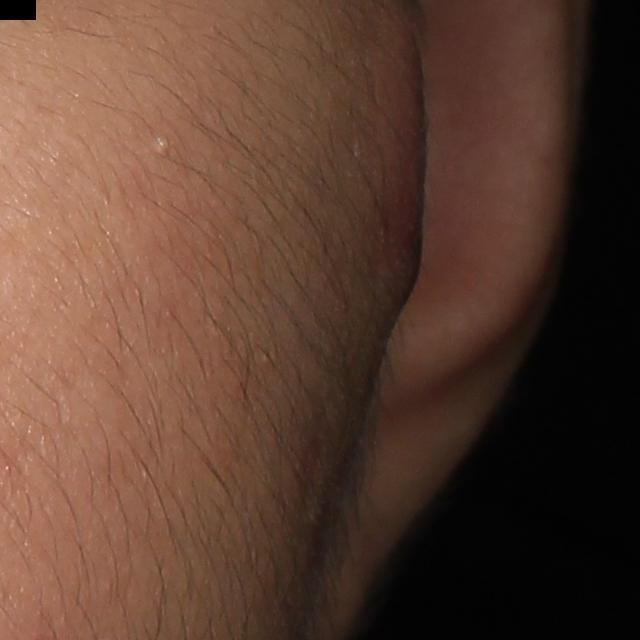comedo: (155, 134, 174, 156)
